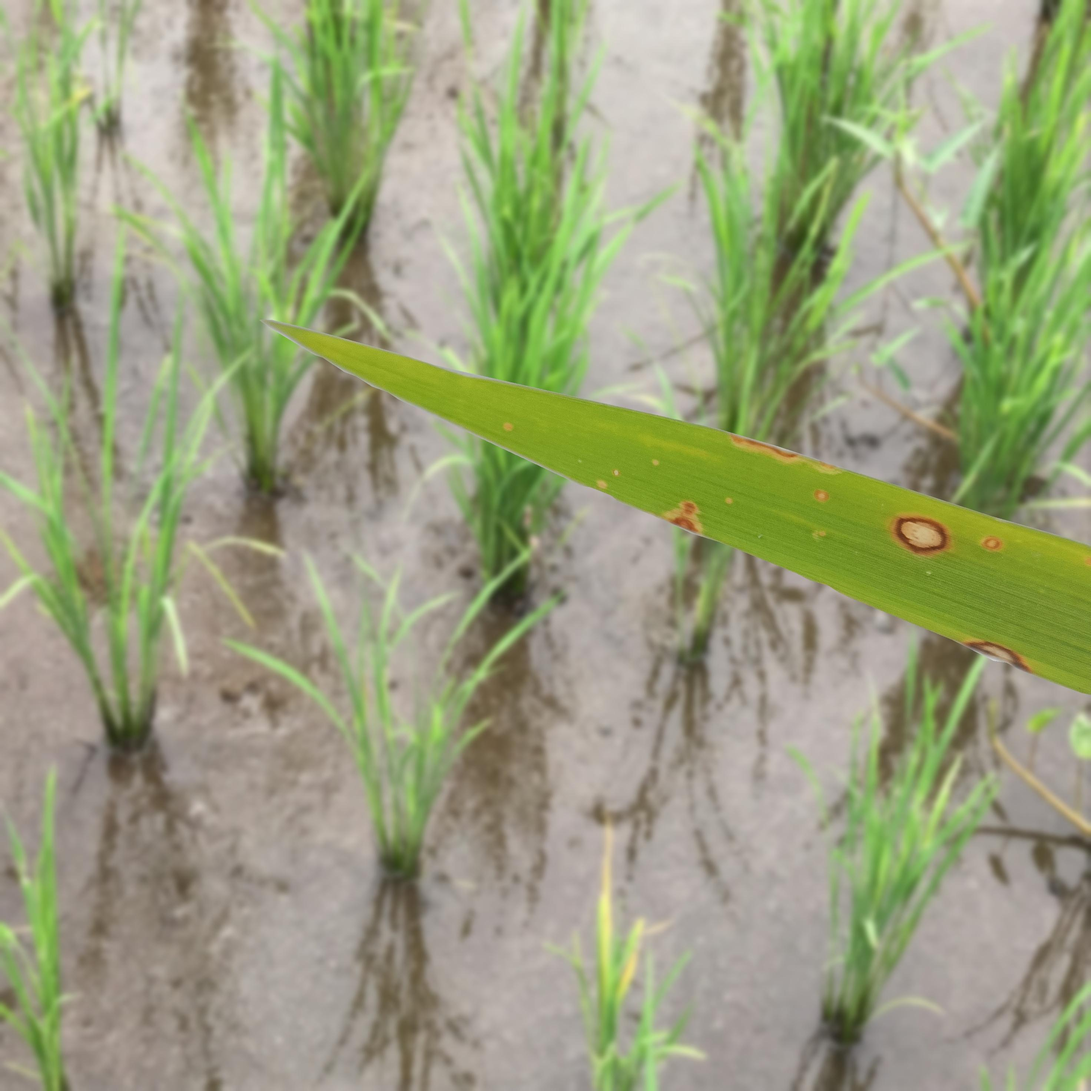LEAF BLAST: (893, 516, 949, 554), (965, 641, 1030, 672), (981, 535, 1003, 551), (814, 489, 829, 502), (613, 469, 619, 475)
